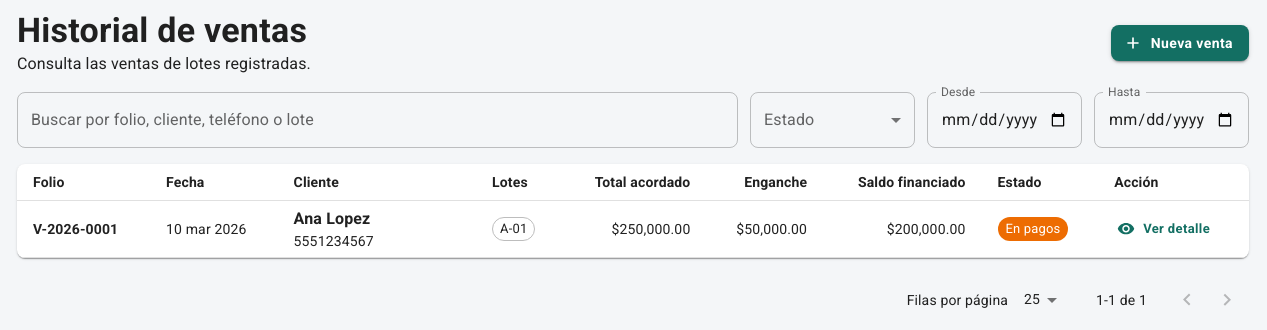
Scenario: SalesPage › clears filters after they are applied
Check: the text "V-2026-0001" is shown, box [17, 200, 150, 258]
In the field labelled "Buscar por folio, cliente, teléfono o lote": (378,120) [17, 92, 738, 148], type "Ana"
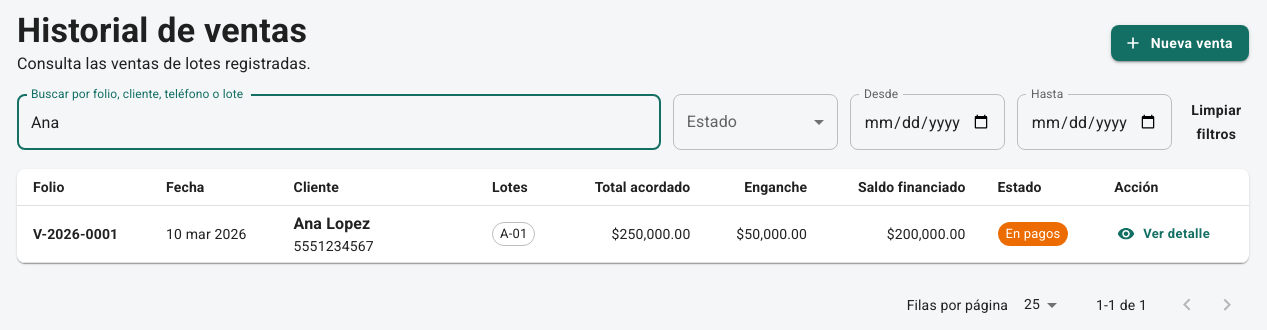
Check: the button "Limpiar filtros" is shown
Click the button "Limpiar filtros": (1216,122) [1184, 92, 1249, 153]
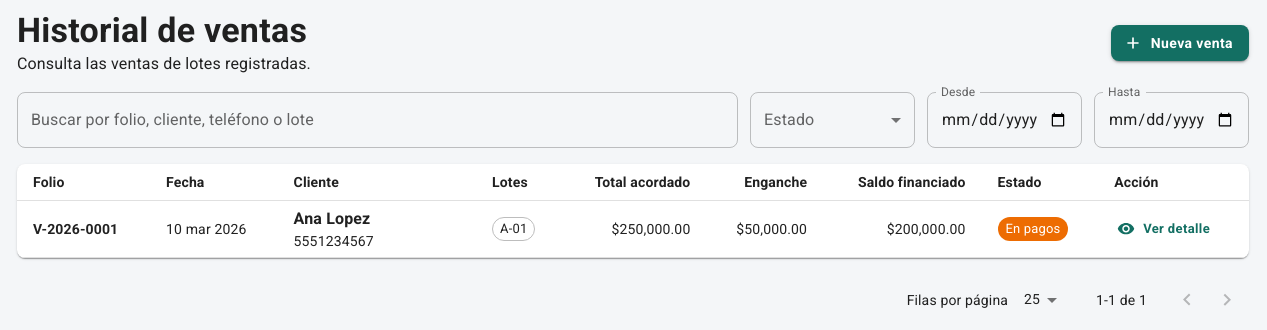
Check: the field labelled "Buscar por folio, cliente, teléfono o lote" is empty, box [17, 92, 738, 148]
